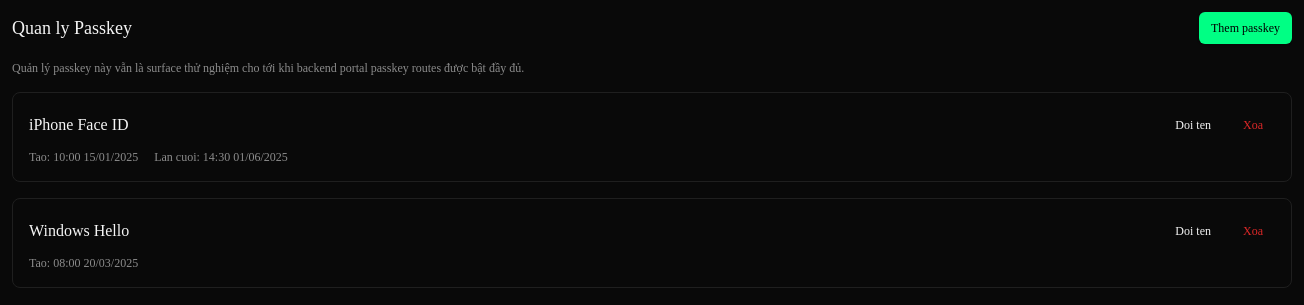
Test case: PasskeyManagement › shows rename input when rename is clicked
Expected: the text "iPhone Face ID" is shown, [29,113,128,137]
What coordinates should you click on to do the following:
click the button "Doi ten" in the row of "iPhone Face ID"
I would click on:
 (1193, 125)
Its box is [1163,109,1223,141].
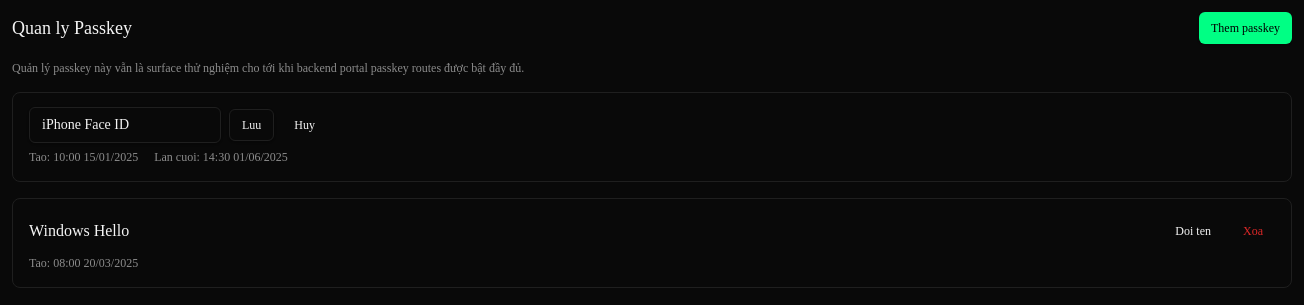
Expected: the field with placeholder "Ten moi" is shown, [29,107,221,143]
Expected: the button "Luu" is shown, [229,109,274,141]
